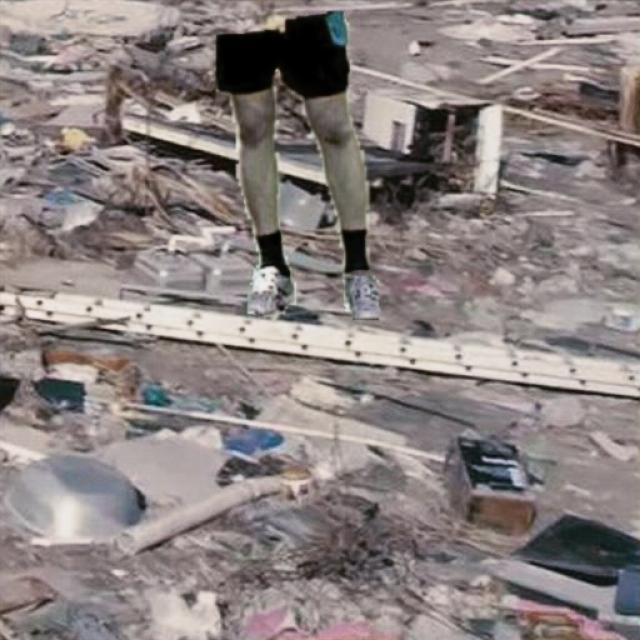Person in Rubble: (216, 11, 378, 319)
